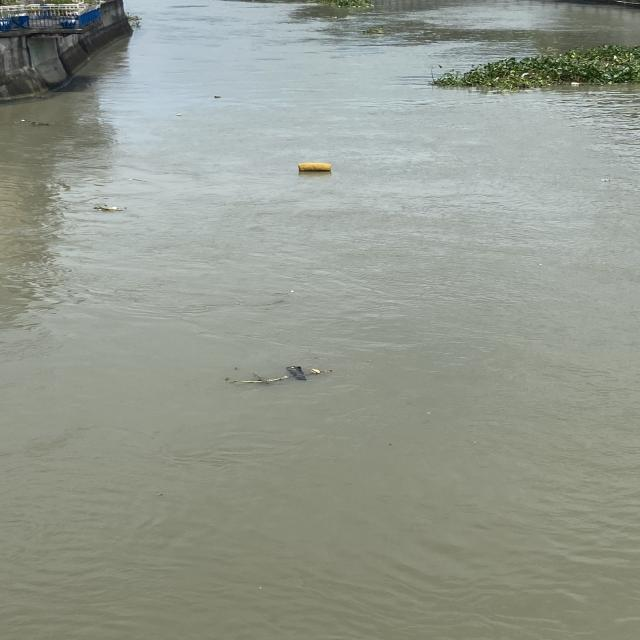Foamed Plastic: (296, 161, 333, 173)
Organic Debris: (223, 369, 334, 385)
Rubber: (285, 366, 307, 381)
